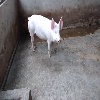heo: (25, 12, 65, 59)
